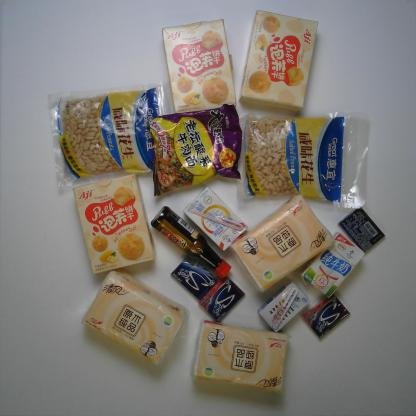Dessert: (73, 172, 156, 274), (239, 11, 319, 112), (162, 18, 236, 119)
Dried Fruit: (238, 112, 370, 210), (47, 83, 163, 192)
Gum: (198, 274, 245, 323), (302, 292, 350, 338), (173, 254, 220, 300), (340, 205, 385, 253)
Instant Noodles: (148, 104, 242, 194)
Milk: (300, 231, 364, 297), (182, 189, 247, 250), (259, 282, 309, 334)
Seasoner: (152, 206, 233, 279)
Tissue: (82, 269, 188, 366), (231, 195, 336, 287), (191, 321, 290, 392)
